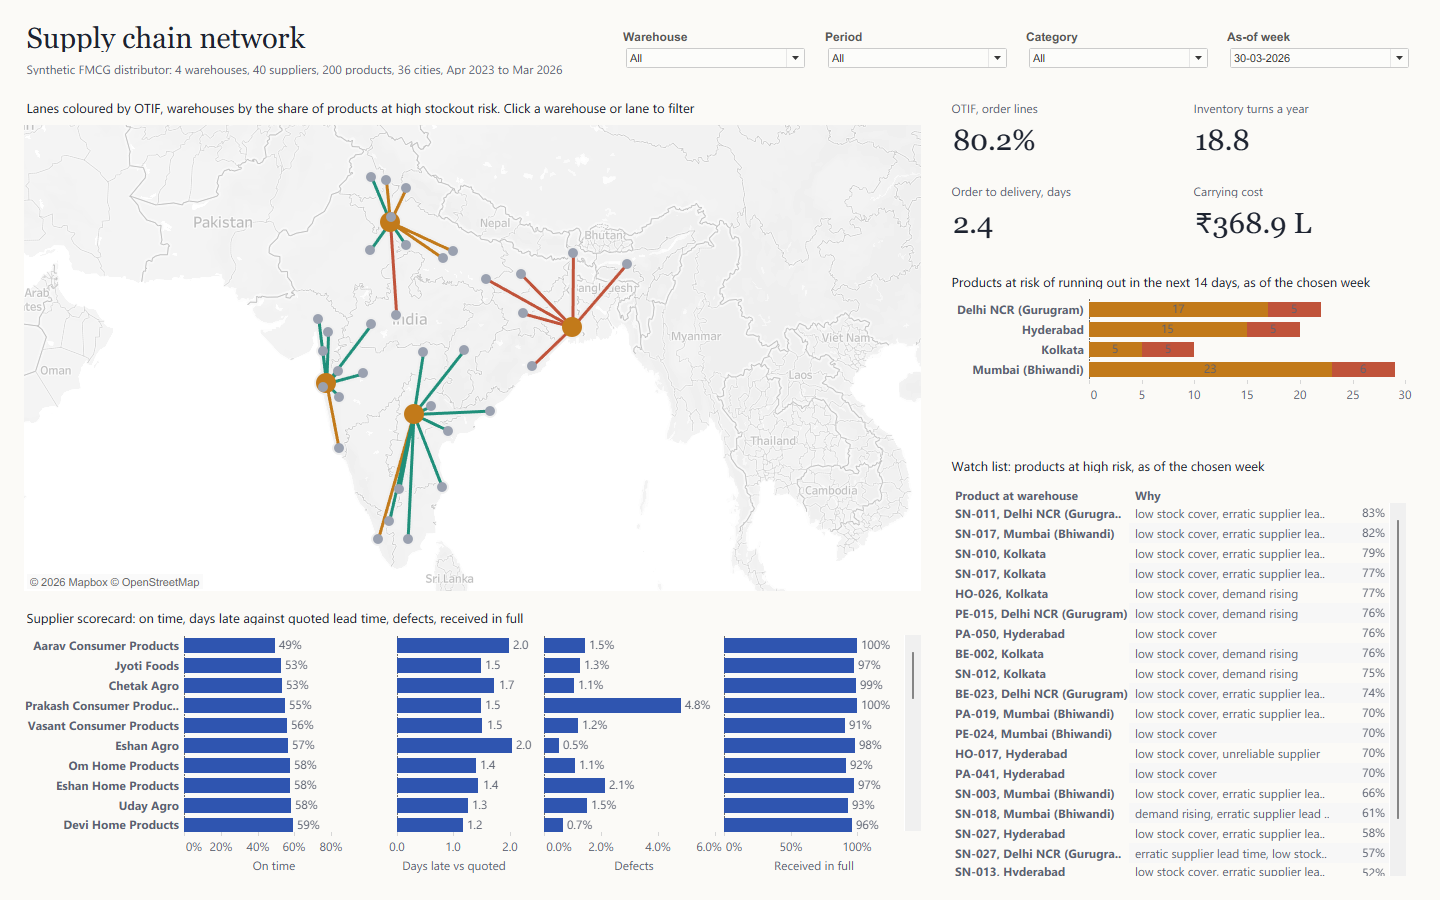

What the dashboard file says about the page in this screenshot:
{"tool":"tableau","page":{"name":"Network","canvas":[1440,900],"ordinal":0},"visuals":[{"type":"text","box":[24,14,560,36]},{"type":"parameter","param":"[Parameters].[Parameter 1]","box":[620,20,192,56]},{"type":"parameter","param":"[Parameters].[Parameter 2]","box":[820,20,192,56]},{"type":"parameter","param":"[Parameters].[Parameter 3]","box":[1020,20,192,56]},{"type":"parameter","param":"[Parameters].[Parameter 4]","box":[1220,20,192,56]},{"type":"text","box":[24,52,560,22]},{"type":"text","box":[24,92,900,22]},{"type":"text","box":[944,92,232,22]},{"type":"text","box":[1184,92,232,22]},{"type":"worksheet","title":"KPI OTIF","mark":"Text","box":[944,114,232,54]},{"type":"worksheet","title":"KPI turnover","mark":"Text","box":[1184,114,232,54]},{"type":"worksheet","title":"Map","mark":"Automatic","rows":["lat","lat"],"cols":["lon"],"box":[24,116,900,480]},{"type":"text","box":[944,176,232,22]},{"type":"text","box":[1184,176,232,22]},{"type":"worksheet","title":"KPI lead time","mark":"Text","box":[944,198,232,54]},{"type":"worksheet","title":"KPI carrying cost","mark":"Text","box":[1184,198,232,54]},{"type":"text","box":[944,268,472,22]},{"type":"worksheet","title":"Stockout gauge","mark":"Bar","rows":["dc_city"],"cols":["Calc_Products"],"box":[944,292,472,150]},{"type":"text","box":[944,454,472,22]},{"type":"worksheet","title":"Watch list","mark":"Text","rows":["Calc_Item","reasons"],"box":[944,478,472,406]},{"type":"text","box":[24,608,900,22]},{"type":"worksheet","title":"Supplier scorecard","mark":"Bar","rows":["supplier"],"cols":["Calc_SupOnTime","Calc_SupLate","Calc_SupDefect","Calc_SupFill"],"box":[24,632,900,252]}]}

Visuals, with their boxes in screenshot pixels (x1, y1, x2, y2), scaled from the page's 1440x900 canvas onto the 1440x900 screenshot:
text: [left=24, top=14, right=584, bottom=50]
parameter: [left=620, top=20, right=812, bottom=76]
parameter: [left=820, top=20, right=1012, bottom=76]
parameter: [left=1020, top=20, right=1212, bottom=76]
parameter: [left=1220, top=20, right=1412, bottom=76]
text: [left=24, top=52, right=584, bottom=74]
text: [left=24, top=92, right=924, bottom=114]
text: [left=944, top=92, right=1176, bottom=114]
text: [left=1184, top=92, right=1416, bottom=114]
"KPI OTIF" worksheet (Text marks): [left=944, top=114, right=1176, bottom=168]
"KPI turnover" worksheet (Text marks): [left=1184, top=114, right=1416, bottom=168]
"Map" worksheet: [left=24, top=116, right=924, bottom=596]
text: [left=944, top=176, right=1176, bottom=198]
text: [left=1184, top=176, right=1416, bottom=198]
"KPI lead time" worksheet (Text marks): [left=944, top=198, right=1176, bottom=252]
"KPI carrying cost" worksheet (Text marks): [left=1184, top=198, right=1416, bottom=252]
text: [left=944, top=268, right=1416, bottom=290]
"Stockout gauge" worksheet (Bar marks): [left=944, top=292, right=1416, bottom=442]
text: [left=944, top=454, right=1416, bottom=476]
"Watch list" worksheet (Text marks): [left=944, top=478, right=1416, bottom=884]
text: [left=24, top=608, right=924, bottom=630]
"Supplier scorecard" worksheet (Bar marks): [left=24, top=632, right=924, bottom=884]
